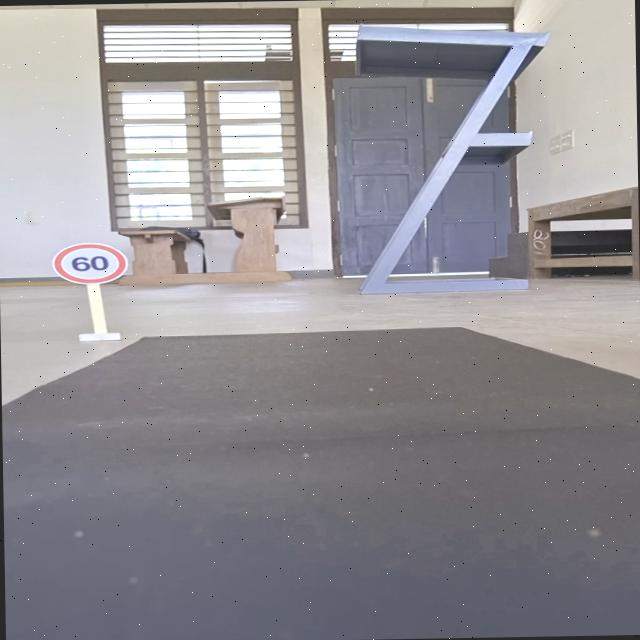Speed60: (50, 240, 130, 286)
